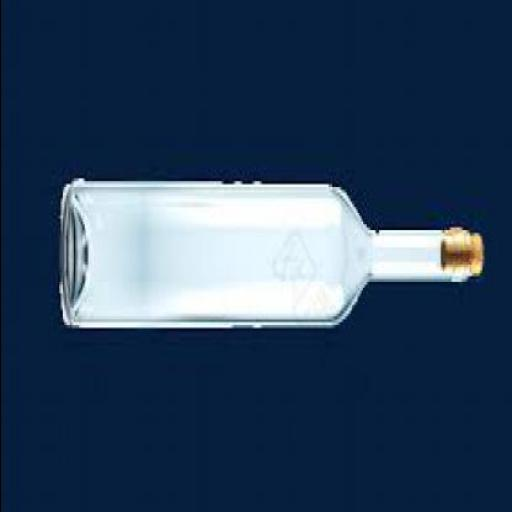glass: (61, 184, 452, 337)
